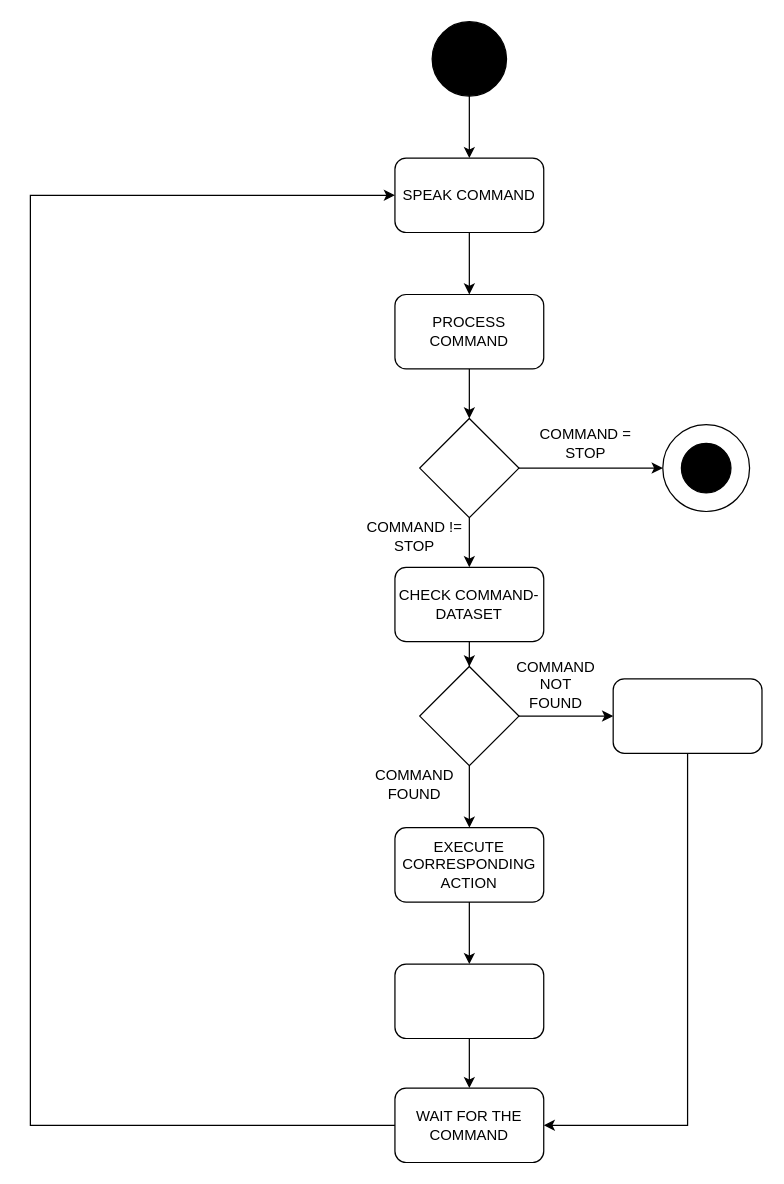
Some shapes in this 784 by 1184 pixel diagram are drawn without their labels. Here are the shapes that lost their labels. From the top down, the box of each, then its label:
(612, 678, 762, 753): REQUEST RE-ENTRY OF COMMAND
(394, 963, 544, 1038): REQUEST NEXT COMMAND
